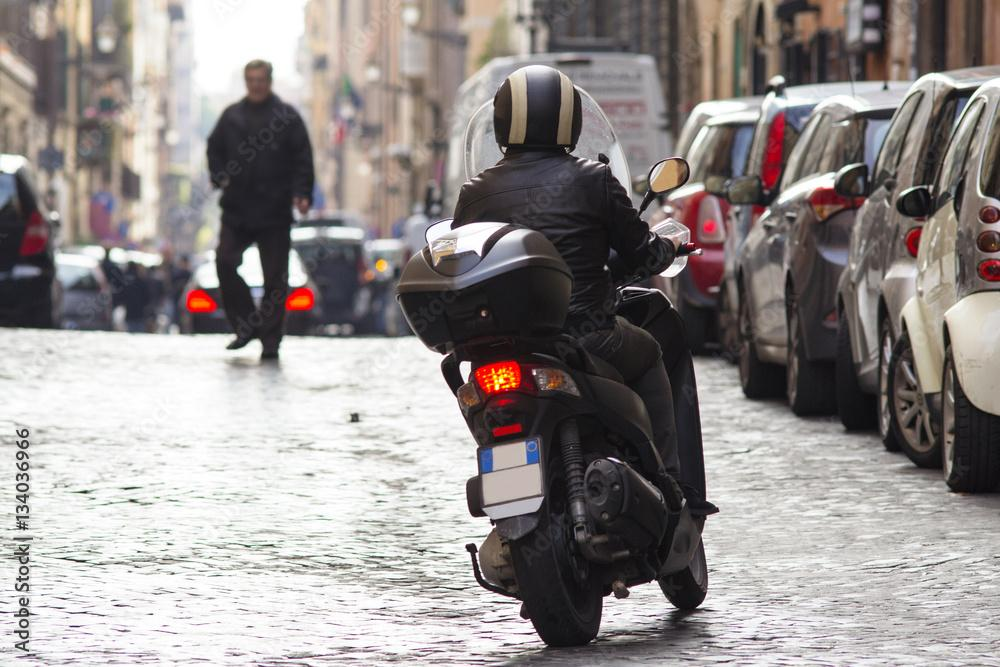helmet: (492, 63, 584, 155)
